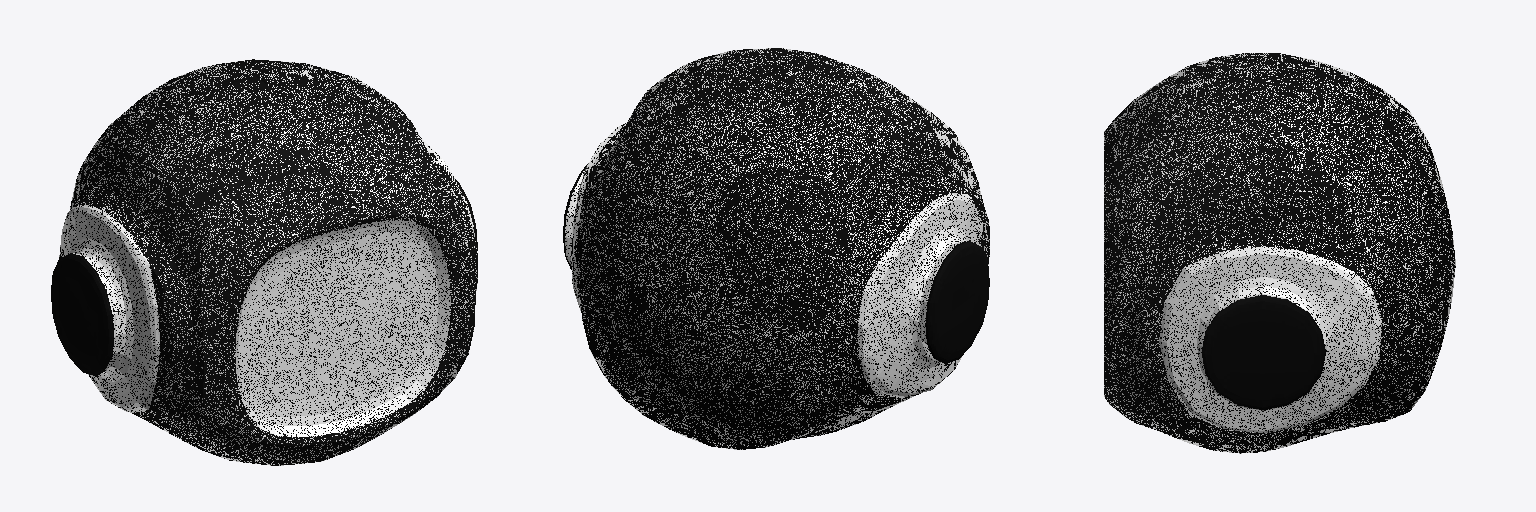
3 renders of one model, left to right at view 1: azimuth 30°, elevation 25°; view 2: azimuth 150°, elevation 25°; view 3: azimuth 270°, elevation 25°, orthographic.
Visible parts, largest first — view 1: strawhat.obj; view 2: strawhat.obj; view 3: strawhat.obj.
Part boxes in pixels (left/top/right/bottom): strawhat.obj: left=51, top=59, right=477, bottom=465; strawhat.obj: left=563, top=48, right=989, bottom=449; strawhat.obj: left=1104, top=53, right=1455, bottom=453.
Bounding box in the file's own units: 0.6189 × 0.5729 × 0.5063.
2 materials, 1 textured.